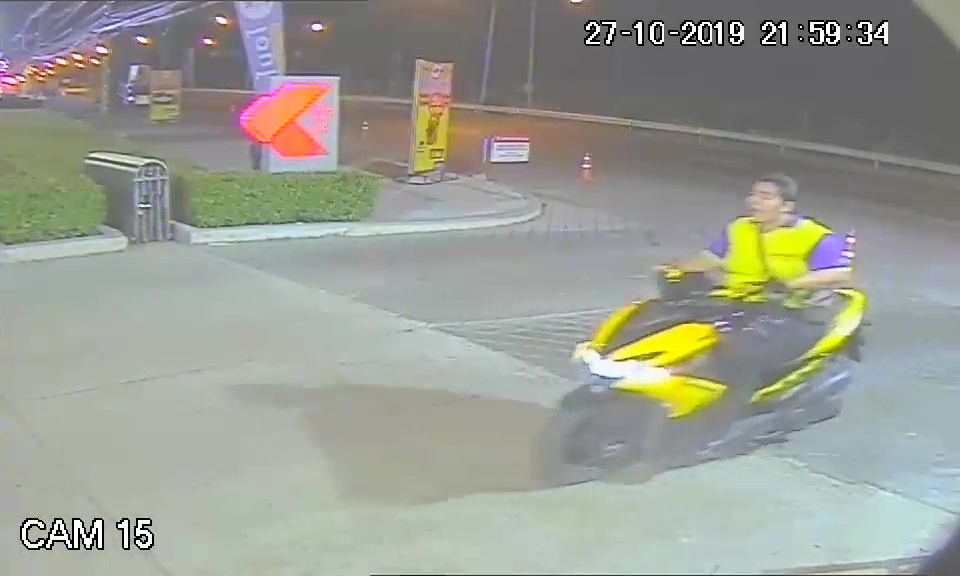motorcycle: (538, 264, 866, 485)
